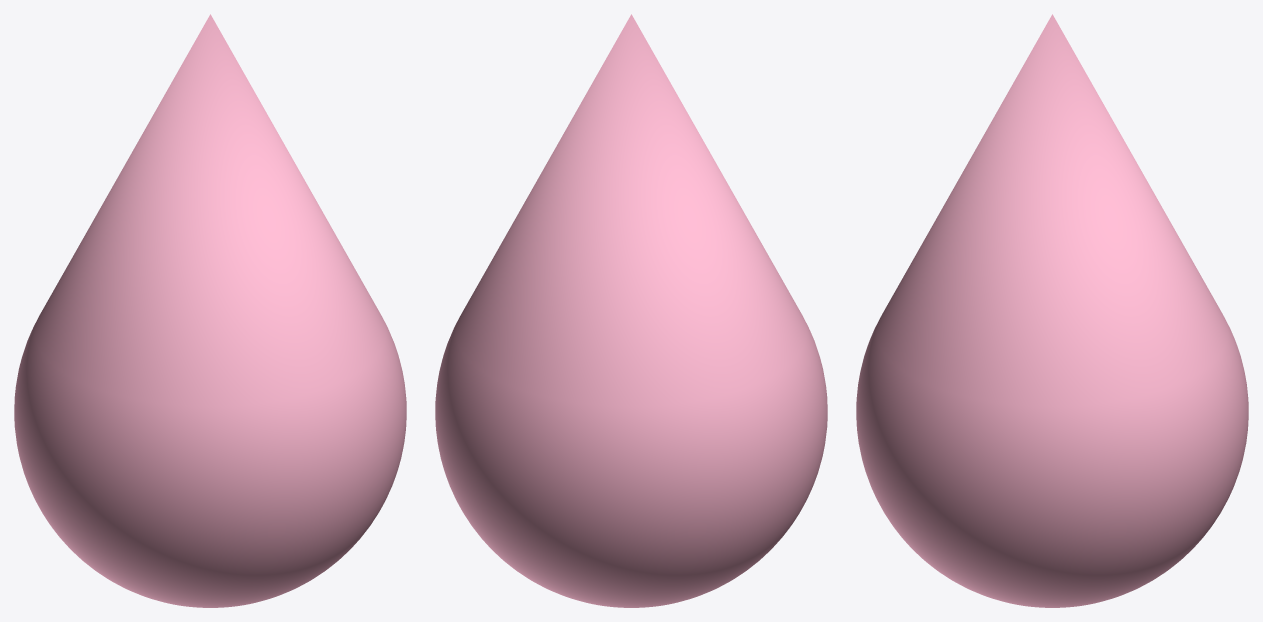
Rendered from drop.gltf.
3 renders of one model, left to right at view 1: azimuth 30°, elevation 25°; view 2: azimuth 150°, elevation 25°; view 3: azimuth 270°, elevation 25°, orthographic.
Parts seen in each view (by area): view 1: Drop; view 2: Drop; view 3: Drop.
Part boxes in pixels (x1,y1,x2,y2): Drop: (14,14,406,607); Drop: (435,14,827,607); Drop: (856,14,1248,607).
Size of the model in its own units: 0.1236 by 0.2 by 0.1236.
